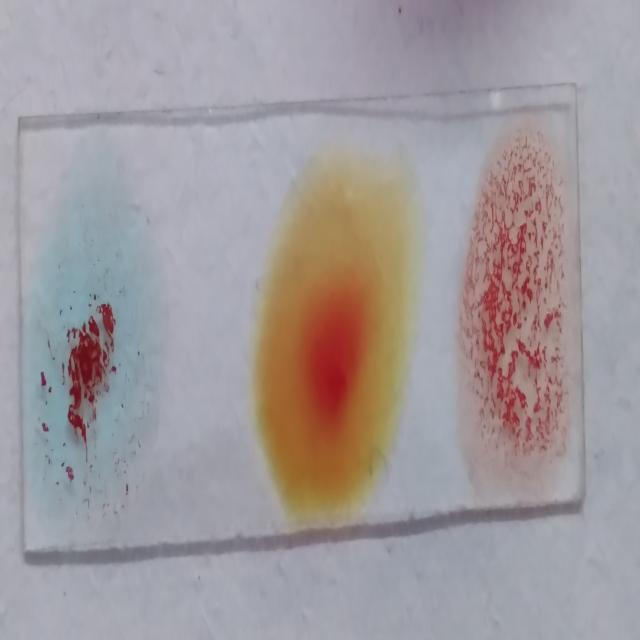A: (29, 199, 146, 521)
D: (460, 143, 573, 476)
